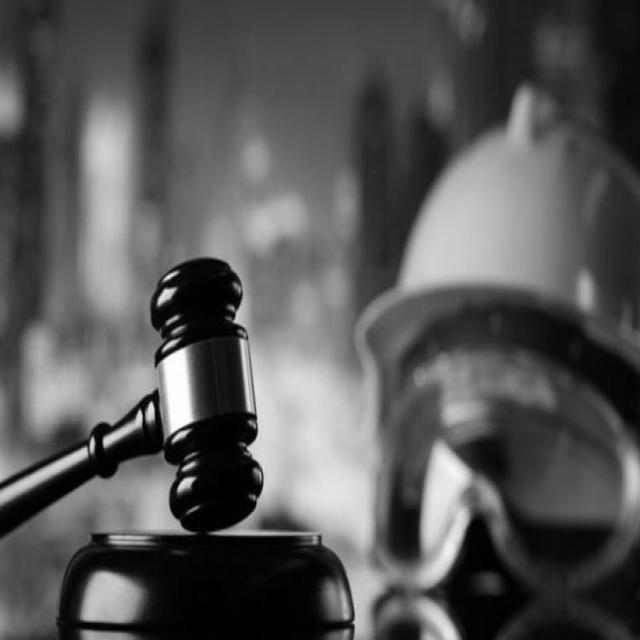safety_helmet: (355, 84, 640, 442)
